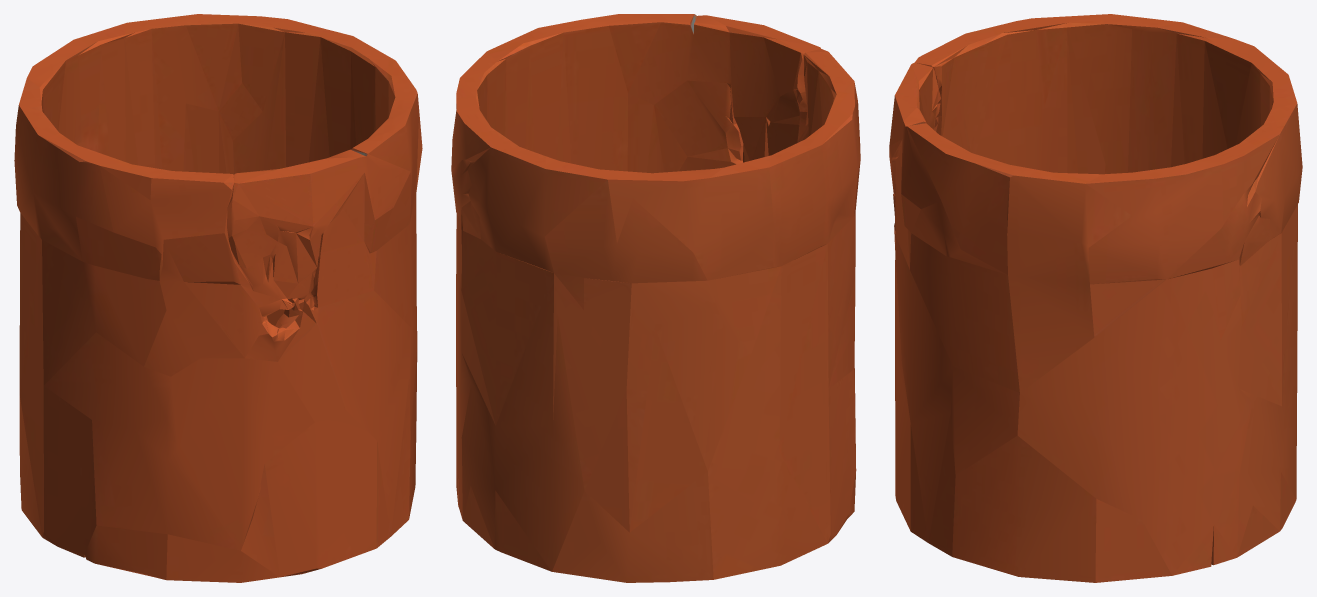
Rendered from potCracked.glb.
3 views of the same model, side by side, from view 1: azimuth 30°, elevation 25°; view 2: azimuth 150°, elevation 25°; view 3: azimuth 270°, elevation 25° (orthographic).
Bounding box in the file's own units: 1.76 × 1.9 × 1.76.
1 material, 1 textured.
